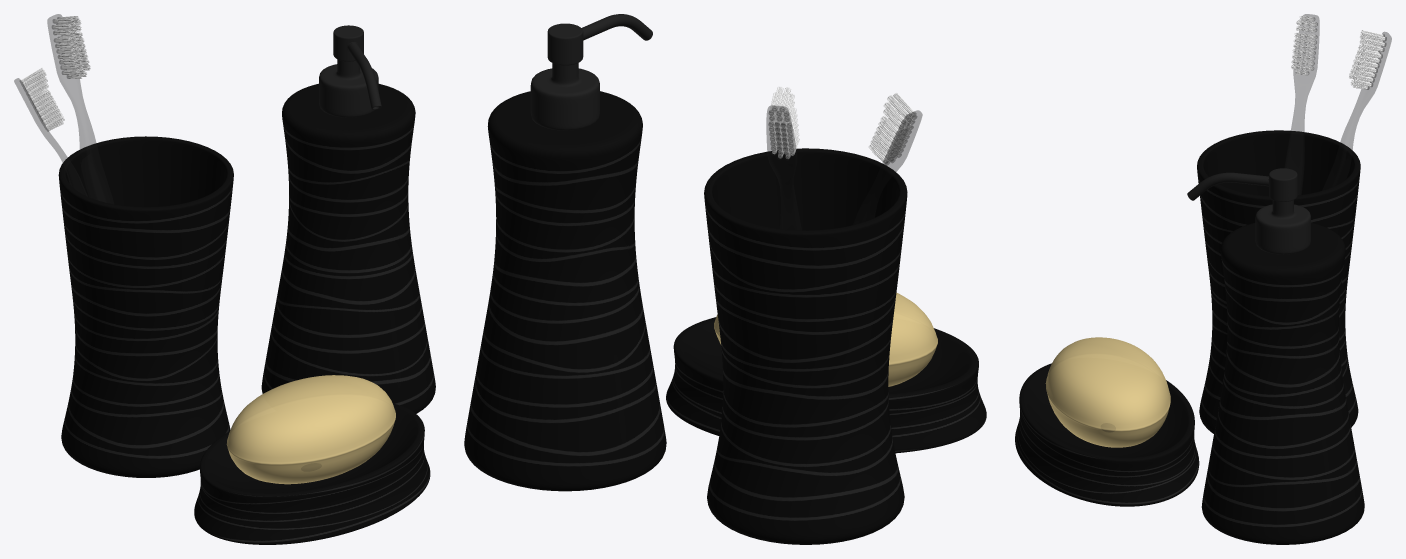
File: cgaxis_models_22_61.fbx
The picture shows the model from 3 angles, left to right: view 1: azimuth 30°, elevation 25°; view 2: azimuth 150°, elevation 25°; view 3: azimuth 270°, elevation 25°; orthographic projection. The views are drawn at different scales.
Parts seen in each view (by area): view 1: cgaxis_models_22_61_01_1, cgaxis_models_22_61_01_2, cgaxis_models_22_61_01_3, cgaxis_models_22_61_02, cgaxis_models_22_61_03, cgaxis_models_22_61_04, cgaxis_models_22_61_05; view 2: cgaxis_models_22_61_01_1, cgaxis_models_22_61_01_2, cgaxis_models_22_61_01_3, cgaxis_models_22_61_03, cgaxis_models_22_61_04, cgaxis_models_22_61_05, cgaxis_models_22_61_02; view 3: cgaxis_models_22_61_01_2, cgaxis_models_22_61_01_1, cgaxis_models_22_61_01_3, cgaxis_models_22_61_02, cgaxis_models_22_61_03, cgaxis_models_22_61_04, cgaxis_models_22_61_05.
Boxes of the visible parts, x1,y1,x2,y2 form: cgaxis_models_22_61_01_1: [58, 136, 233, 477]; cgaxis_models_22_61_01_2: [261, 83, 435, 413]; cgaxis_models_22_61_01_3: [194, 403, 430, 544]; cgaxis_models_22_61_02: [226, 375, 395, 484]; cgaxis_models_22_61_03: [319, 25, 381, 117]; cgaxis_models_22_61_04: [14, 14, 113, 203]; cgaxis_models_22_61_05: [21, 16, 90, 130]; cgaxis_models_22_61_01_1: [704, 148, 907, 544]; cgaxis_models_22_61_01_2: [464, 91, 666, 491]; cgaxis_models_22_61_01_3: [666, 317, 986, 453]; cgaxis_models_22_61_03: [530, 14, 652, 130]; cgaxis_models_22_61_04: [766, 105, 922, 229]; cgaxis_models_22_61_05: [769, 87, 915, 163]; cgaxis_models_22_61_02: [714, 292, 937, 386]; cgaxis_models_22_61_01_2: [1201, 222, 1364, 544]; cgaxis_models_22_61_01_1: [1197, 130, 1360, 433]; cgaxis_models_22_61_01_3: [1015, 363, 1199, 506]; cgaxis_models_22_61_02: [1045, 337, 1170, 447]; cgaxis_models_22_61_03: [1187, 168, 1310, 254]; cgaxis_models_22_61_04: [1284, 14, 1391, 194]; cgaxis_models_22_61_05: [1291, 15, 1385, 89].
Bounding box in the file's own units: 6.77 × 6.59 × 5.99.
5 materials, 1 textured.
